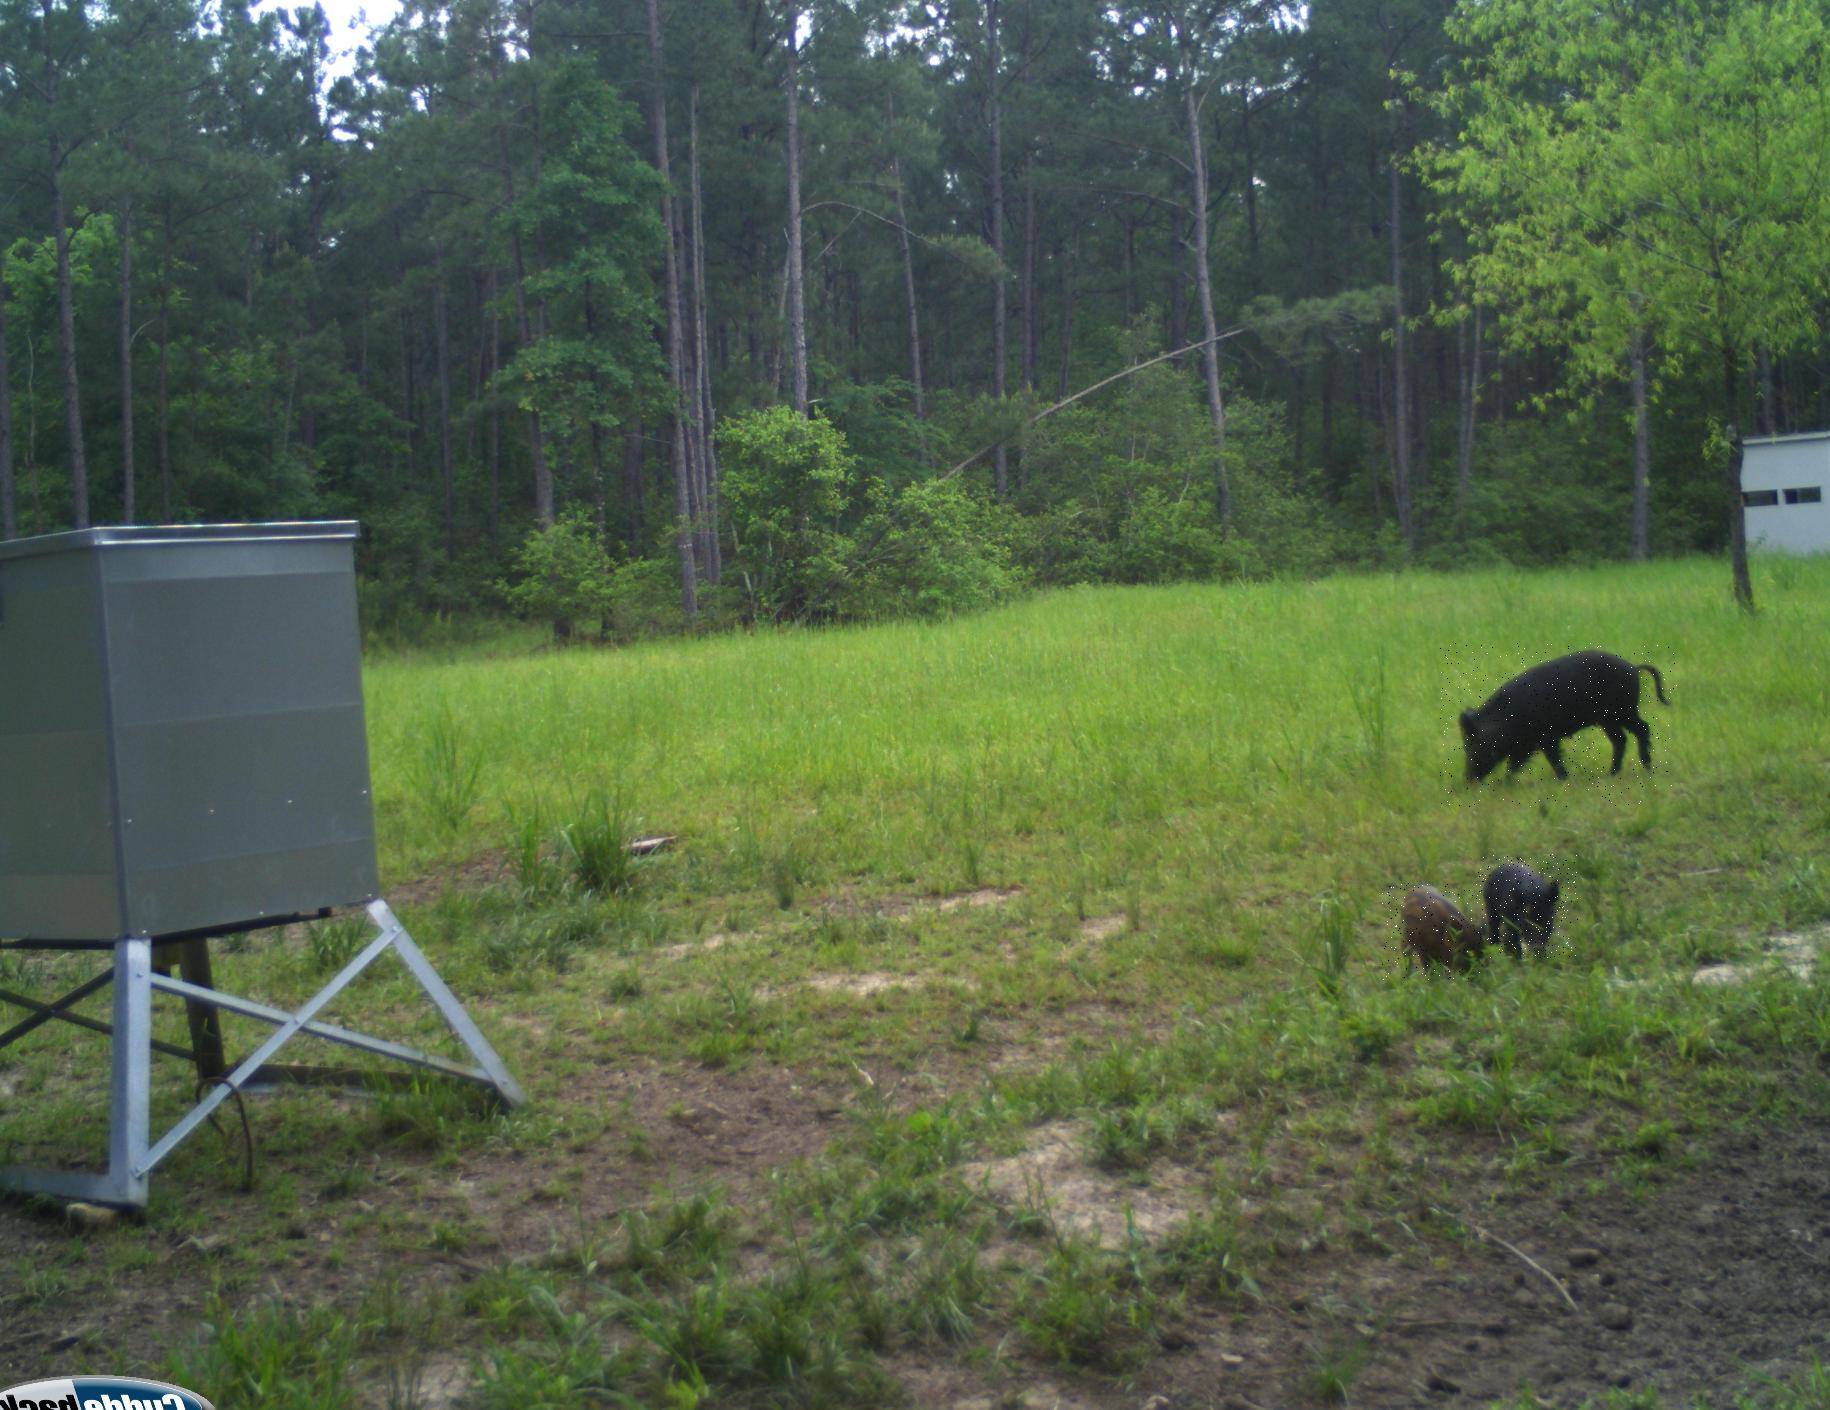Hog: (1440, 643, 1678, 807), (1382, 882, 1490, 980), (1478, 854, 1578, 958)
